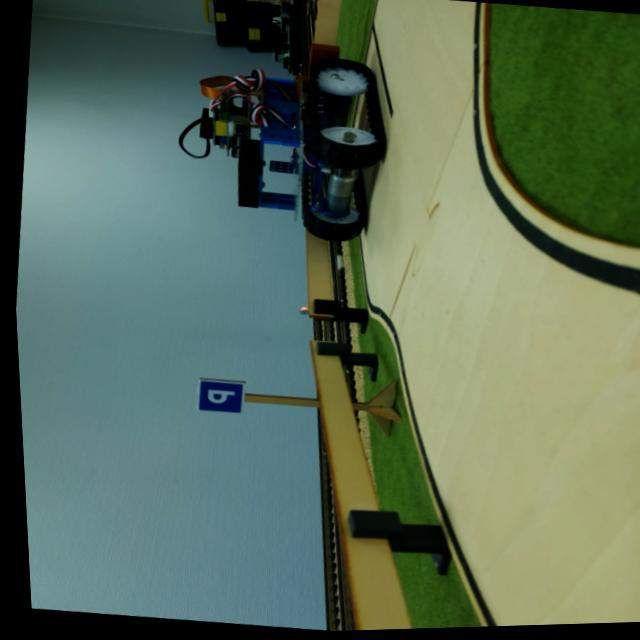obstacle_voiture: (165, 21, 408, 261)
panneau_parking: (187, 367, 259, 424)
